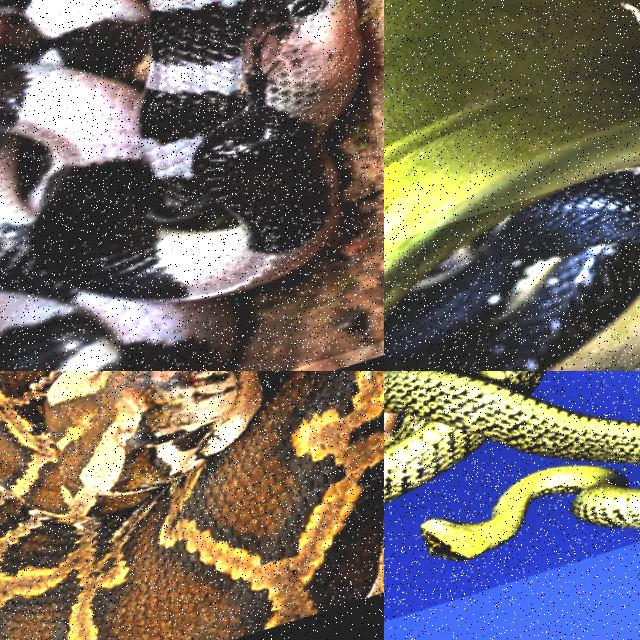Bungarus candidus: (0, 0, 360, 370)
Chrysopelea ornata: (384, 371, 639, 502)
Naja siamensis: (384, 168, 639, 370)
Python bivittatus: (0, 371, 383, 639)
snake: (0, 0, 360, 370), (0, 371, 383, 639), (384, 168, 639, 370), (384, 371, 639, 502)
